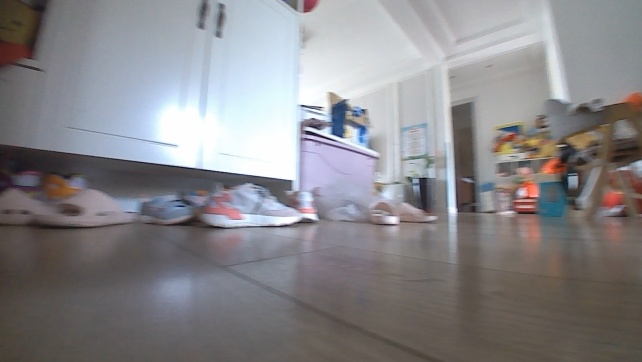shoe: (197, 179, 302, 229), (134, 192, 195, 225)
slipper: (28, 187, 132, 230), (395, 198, 438, 224), (367, 200, 401, 226)
